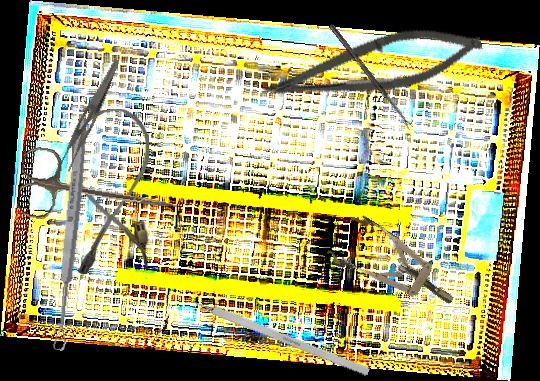Cannula: (71, 108, 151, 275)
Dressing Forceps: (53, 53, 121, 180)
Hook Surgical: (173, 290, 371, 377)
Iris Scissors: (15, 145, 182, 238)
Micro Scissor: (257, 10, 488, 127)
Speculum: (323, 209, 467, 326)
Surgical Spoon: (50, 117, 91, 352), (327, 23, 414, 131)
